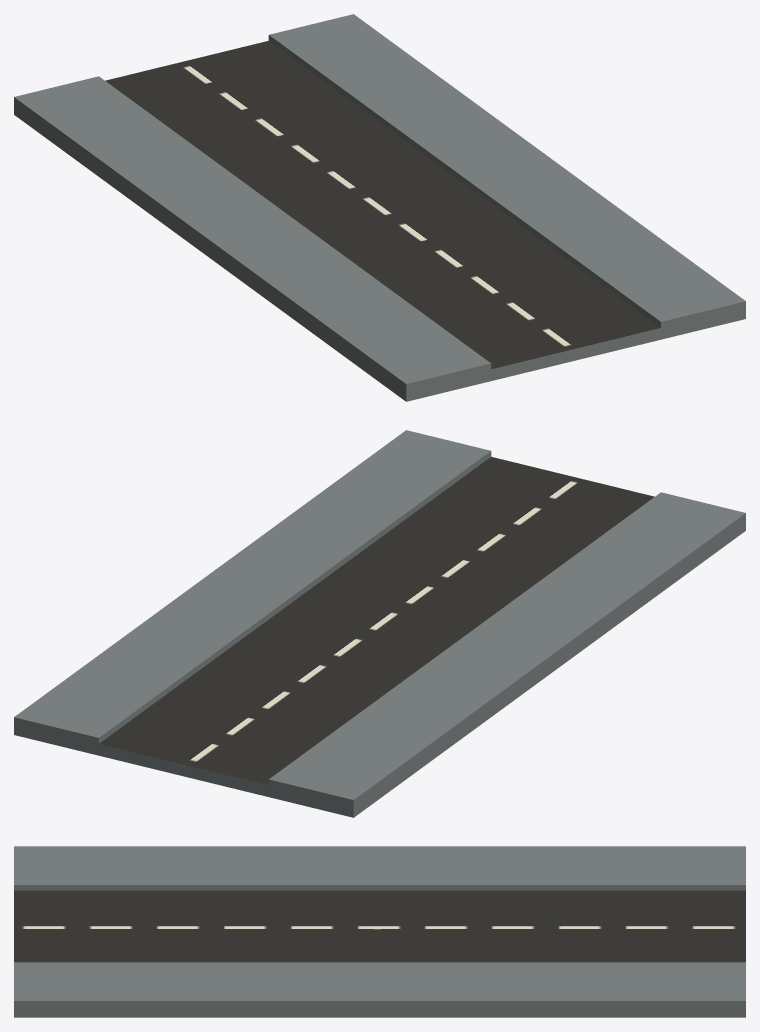
Rendered from Road_grade_0_Tile.fbx.
3 views of the same model, one above another, from view 1: azimuth 30°, elevation 25°; view 2: azimuth 150°, elevation 25°; view 3: azimuth 270°, elevation 25° (orthographic). The views are drawn at different scales.
Parts seen in each view (by area): view 1: Cube; view 2: Cube; view 3: Cube.
Part boxes in pixels (x1,y1,x2,y2): Cube: (14, 14, 745, 401); Cube: (14, 430, 745, 817); Cube: (14, 846, 745, 1017).
Bounding box in the file's own units: 100 × 5 × 200.
